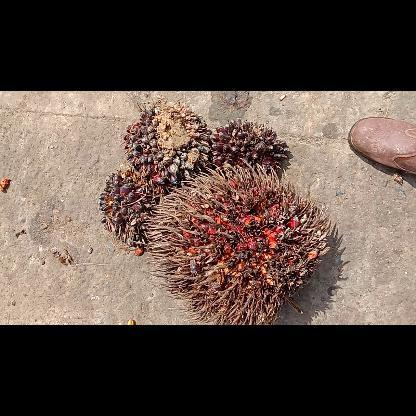TBS abnormal: (120, 98, 212, 192), (97, 169, 167, 255), (209, 118, 290, 182)
Terlalu masak: (146, 160, 332, 324)
